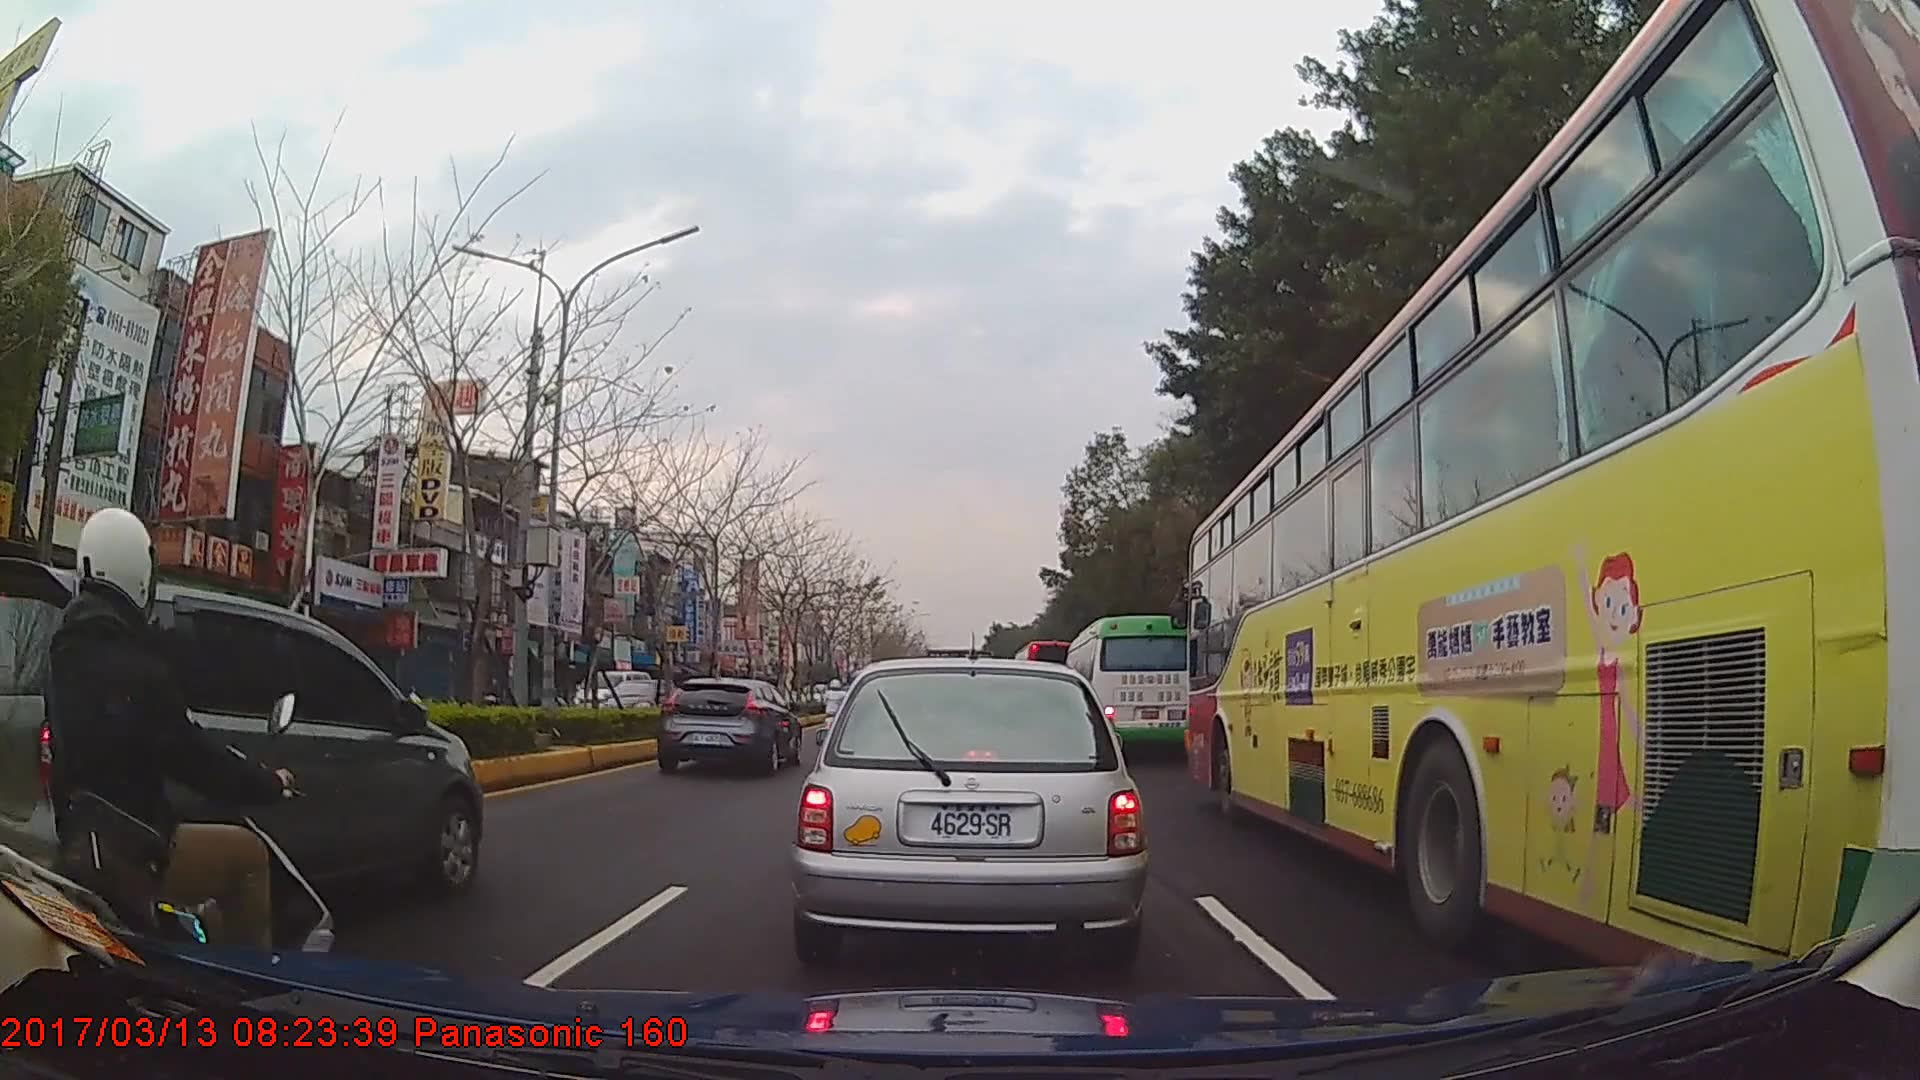rider: (11, 509, 329, 1040), (821, 677, 851, 744)
vehicle: (1186, 0, 1920, 987), (7, 556, 482, 930), (795, 652, 1148, 972), (1061, 613, 1197, 761), (652, 672, 802, 777)
